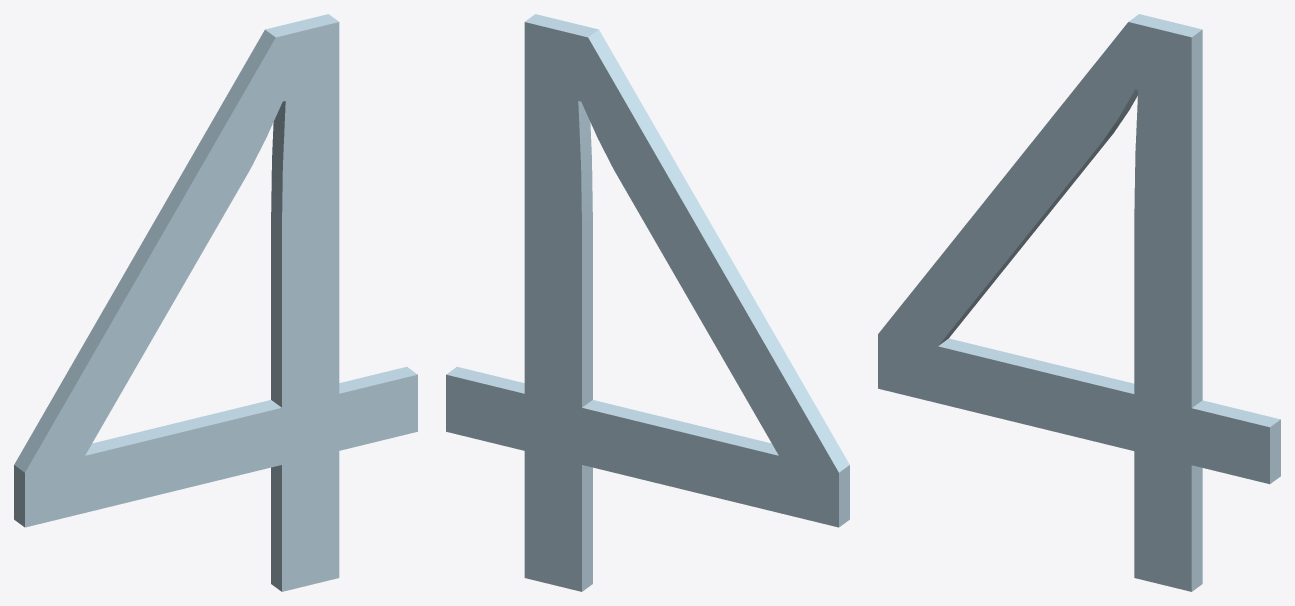
3 views of the same model, side by side, from view 1: azimuth 30°, elevation 25°; view 2: azimuth 150°, elevation 25°; view 3: azimuth 330°, elevation 25° (orthographic).
Parts seen in each view (by area): view 1: 4; view 2: 4; view 3: 4.
Boxes of the visible parts, x1,y1,x2,y2 form: 4: (14,14,417,591); 4: (446,14,849,591); 4: (878,14,1280,591).
Bounding box in the file's own units: 0.0417 × 0.0564 × 0.002.
